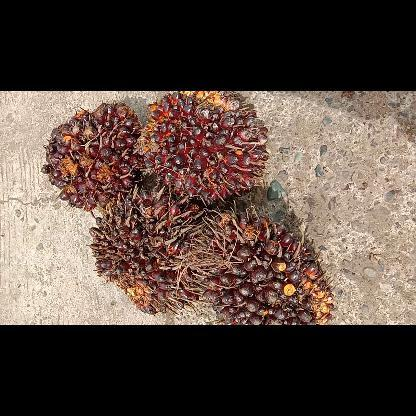Kurang masak: (190, 208, 338, 324), (136, 91, 272, 209), (86, 188, 206, 316), (39, 100, 149, 214)
